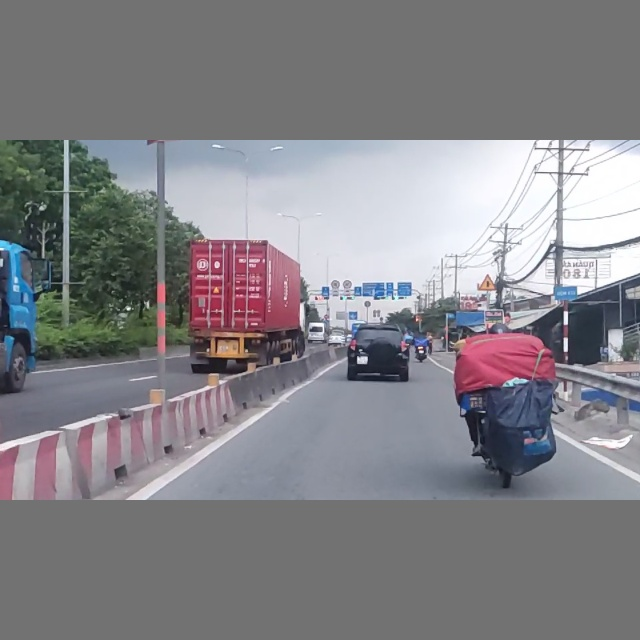W.207: (477, 273, 497, 291)
